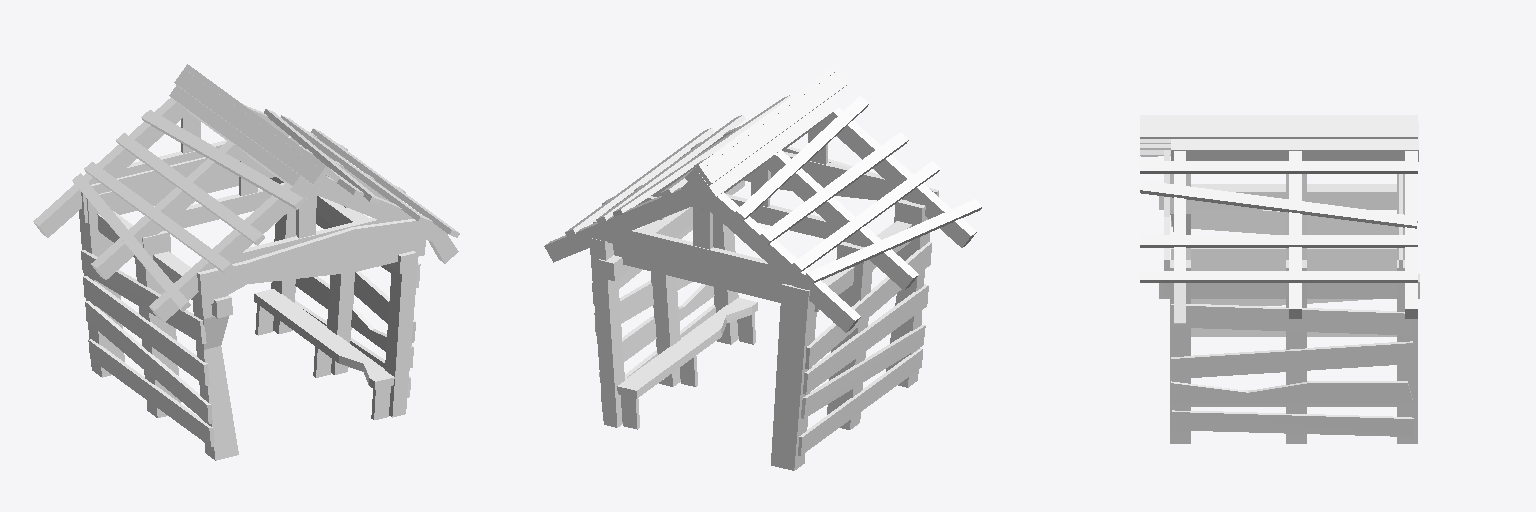
Rendered from MineShaft.obj.
3 views of the same model, side by side, from view 1: azimuth 30°, elevation 25°; view 2: azimuth 150°, elevation 25°; view 3: azimuth 270°, elevation 25° (orthographic).
Parts seen in each view (by area): view 1: Mine_Entrance; view 2: Mine_Entrance; view 3: Mine_Entrance.
Boxes of the visible parts, box(x1,y1,x2,y2) form: Mine_Entrance: box(33, 64, 459, 460); Mine_Entrance: box(544, 63, 982, 470); Mine_Entrance: box(1140, 115, 1419, 443).
Size of the model in its own units: 43.31 by 37.74 by 33.83.